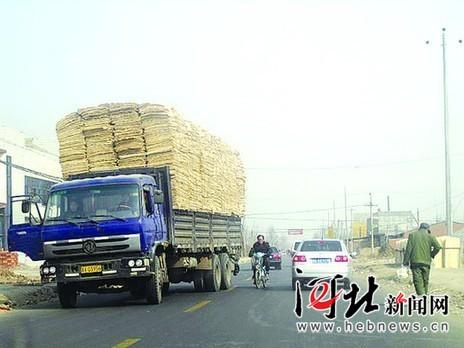chaozhai: (40, 102, 244, 308)
